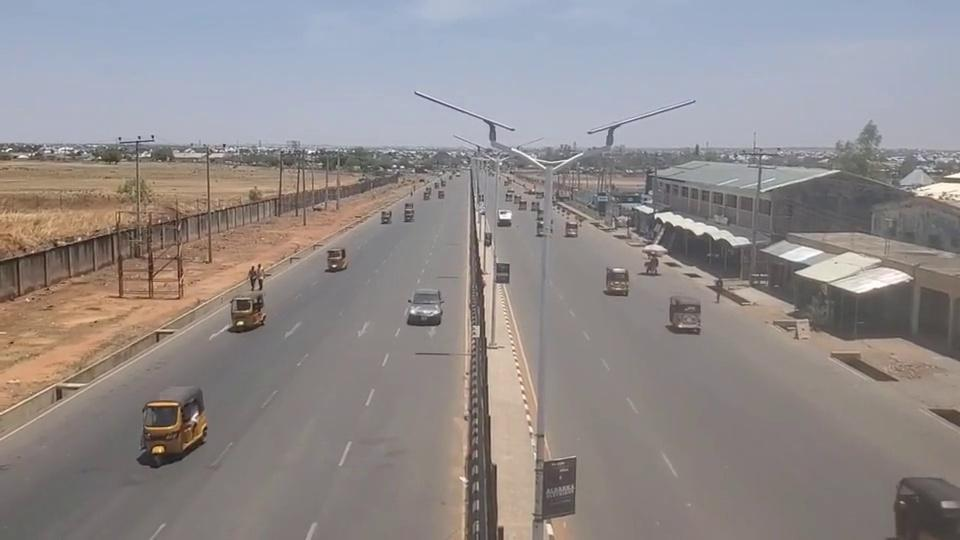car: (406, 286, 445, 324)
keke: (139, 385, 208, 459), (894, 473, 960, 540), (229, 291, 266, 331), (669, 295, 702, 333), (605, 267, 629, 296), (326, 248, 348, 272), (565, 220, 579, 237), (381, 210, 392, 224), (423, 189, 431, 200)
